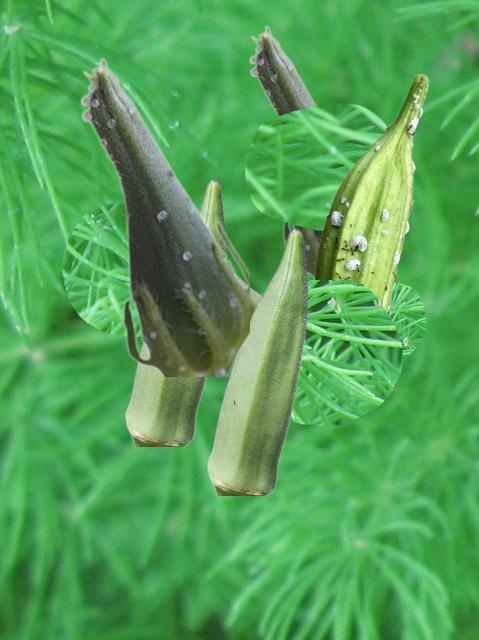okra: (79, 57, 248, 375), (314, 74, 428, 312), (125, 179, 225, 445), (207, 228, 307, 494), (248, 25, 321, 279)
